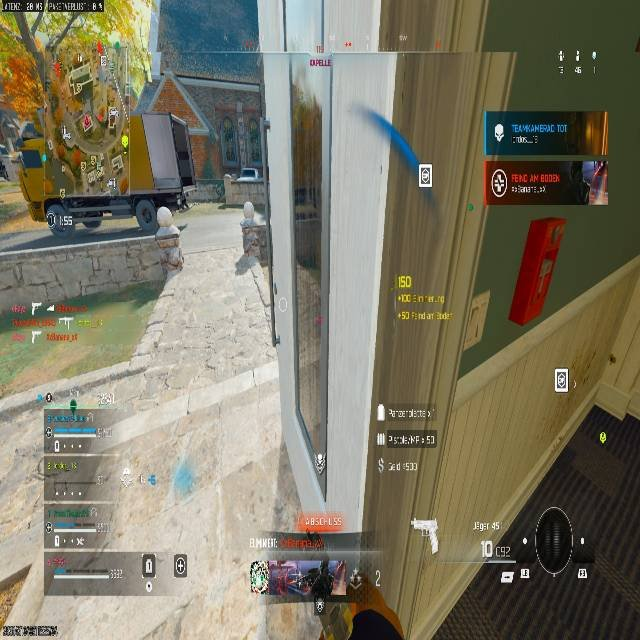player: (239, 200, 264, 258)
